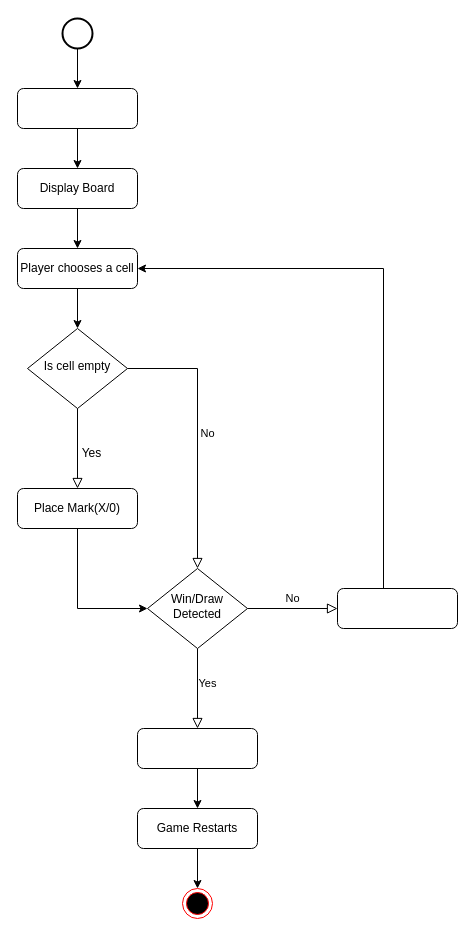
Image size: 475x936. Some labels were removed from this diagram. Each missing label, with the centre of its shape:
Announce WInner/Drawn: the point at 197,748
Initialize Board(1 to 9): the point at 77,108
Switch Player: the point at 397,608
